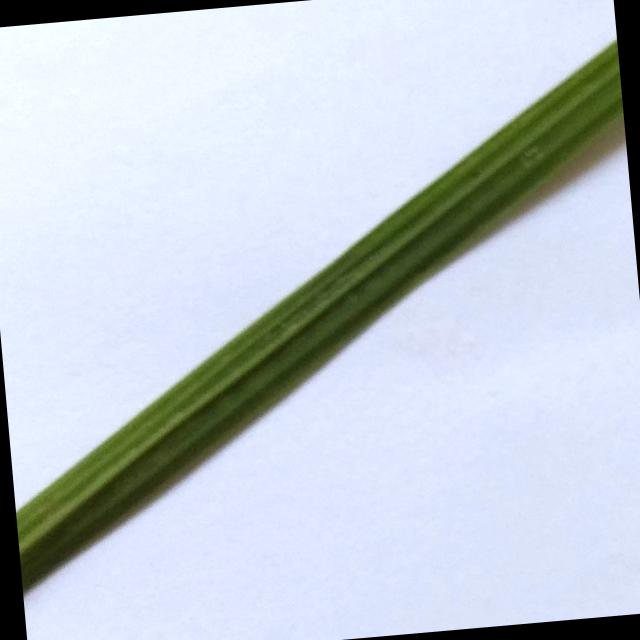Rice_Healthy: (15, 40, 623, 593)
